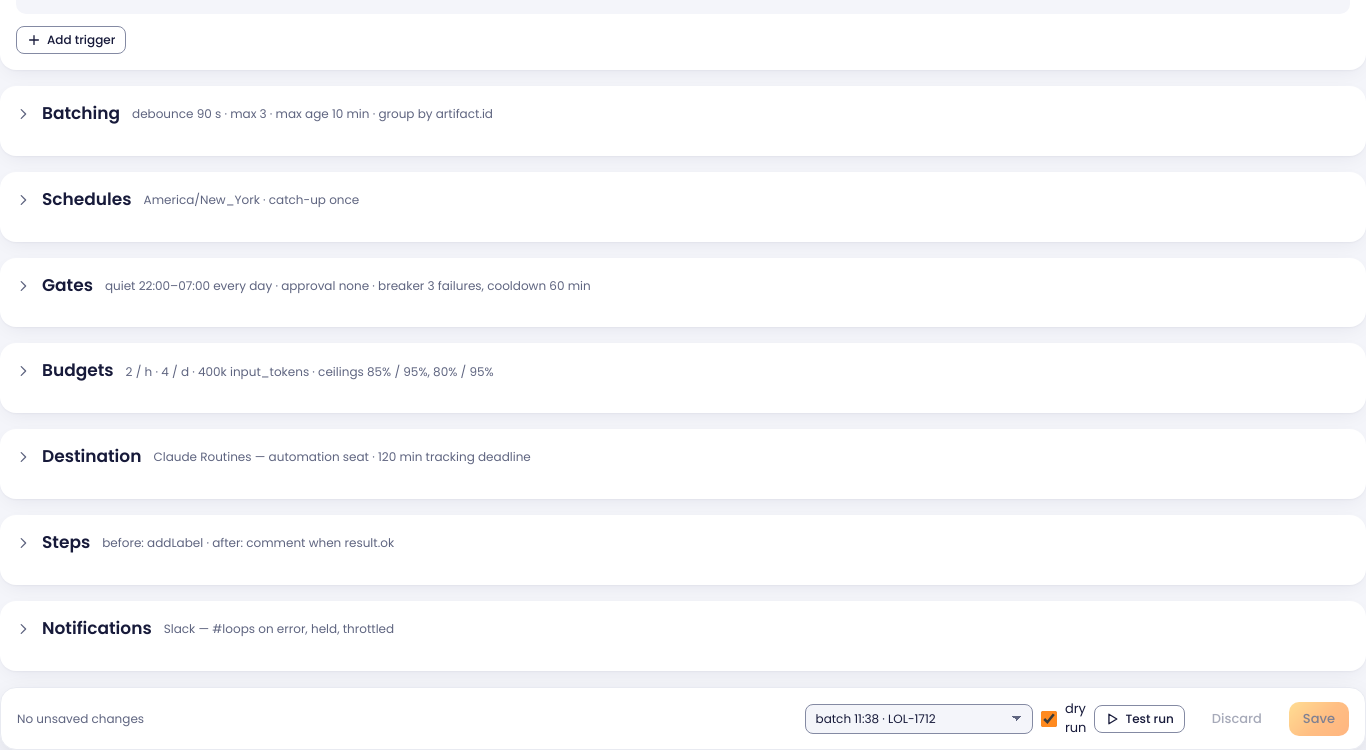
Test: ProcessEditor › draws per-meter ceilings as marks on each gauge
(page scrolled)
Click the button "Budgets": click(78, 370) [16,360,1350,383]
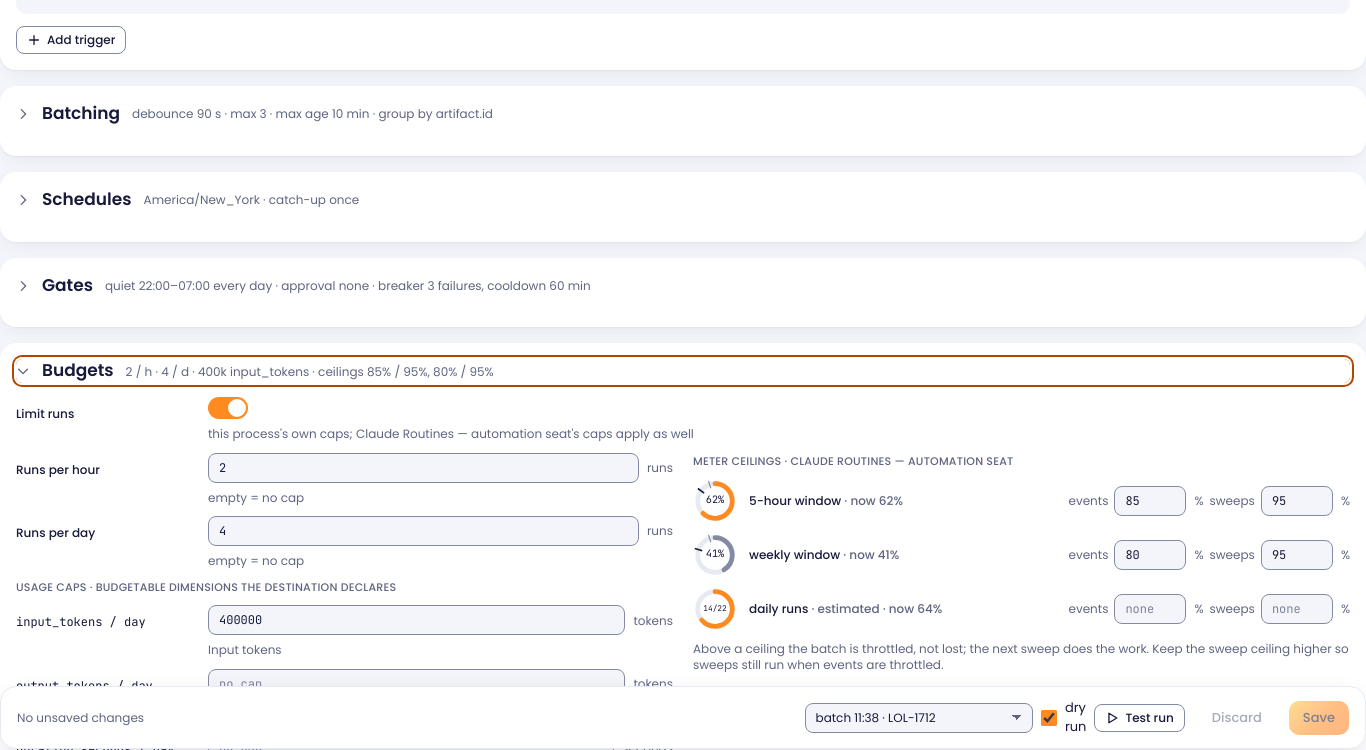
Replace the text in the field named "5-hour window event ceiling" with "70": (1150, 501) [1114,486,1186,516]
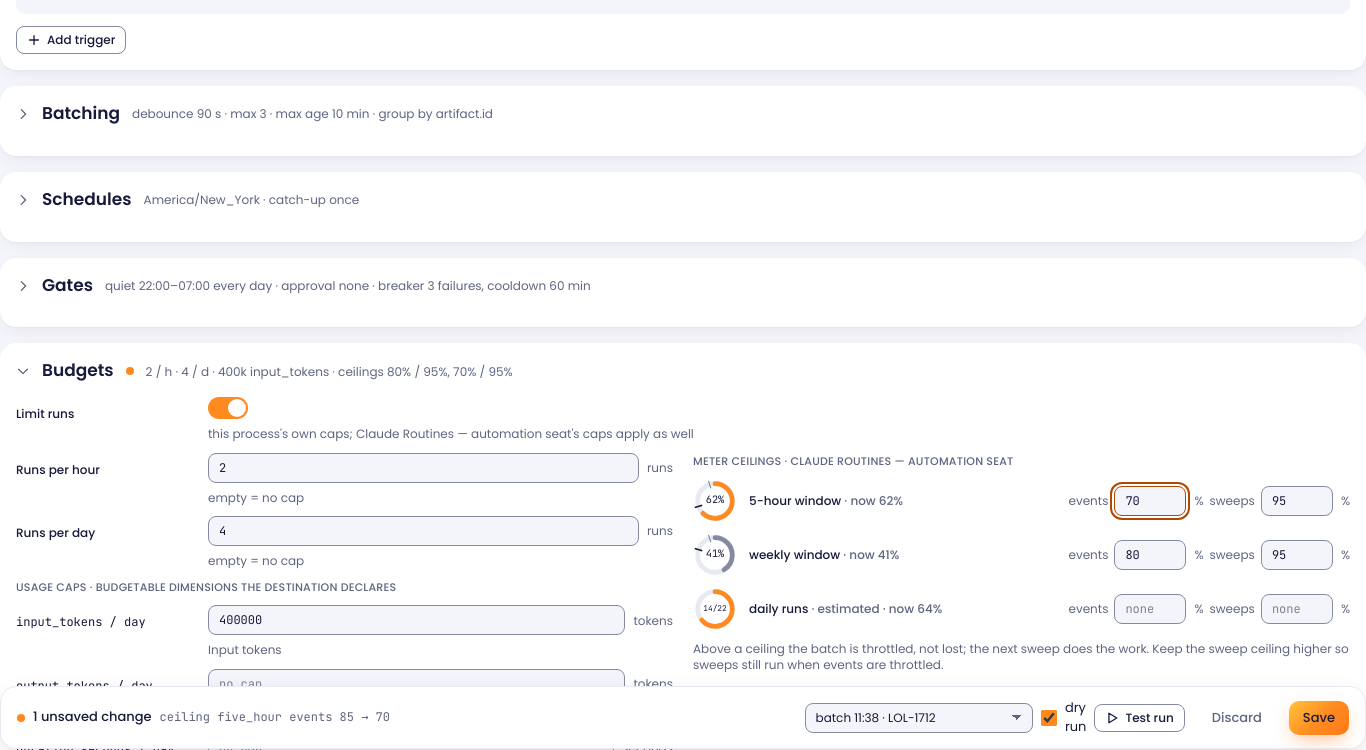
Expected: the field labelled "input_tokens / day" holds "400000", [208,606,625,636]
Expected: the text "ceiling five_hour events 85 → 70" is shown, [160,710,390,727]
